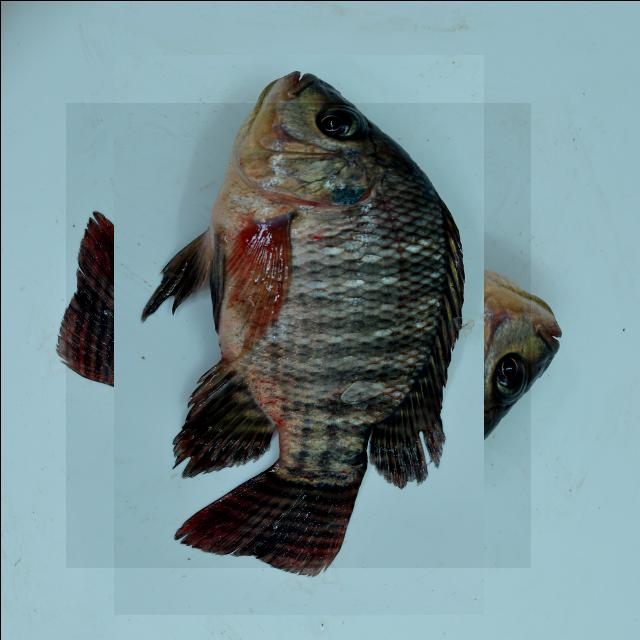Columnaris Disease: (65, 102, 530, 567)
